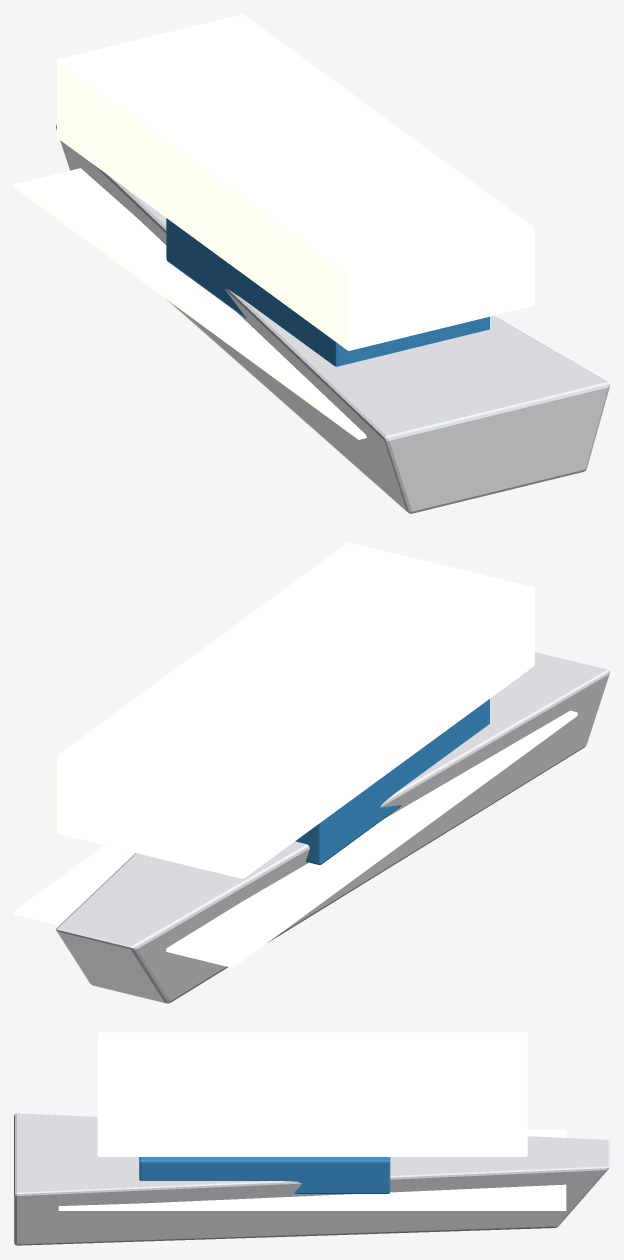
The model's file is traffic_ferry.glb.
3 views of the same model, one above another, from view 1: azimuth 30°, elevation 25°; view 2: azimuth 150°, elevation 25°; view 3: azimuth 270°, elevation 25° (orthographic). The views are drawn at different scales.
Parts seen in each view (by area): view 1: PassengerDeck, Ferry, Ferry_NeonTrim, Ferry_Deck; view 2: PassengerDeck, Ferry, Ferry_NeonTrim, Ferry_Deck; view 3: PassengerDeck, Ferry, Ferry_NeonTrim, Ferry_Deck.
Boxes of the visible parts, x1,y1,x2,y2 form: PassengerDeck: (57, 14, 534, 350); Ferry: (56, 124, 609, 513); Ferry_NeonTrim: (14, 168, 366, 439); Ferry_Deck: (166, 218, 489, 366); PassengerDeck: (57, 542, 534, 878); Ferry: (56, 652, 609, 1003); Ferry_NeonTrim: (14, 710, 577, 967); Ferry_Deck: (295, 699, 489, 864); PassengerDeck: (97, 1032, 527, 1156); Ferry: (14, 1113, 609, 1245); Ferry_NeonTrim: (58, 1129, 566, 1210); Ferry_Deck: (139, 1157, 390, 1193).
Size of the model in its own units: 5.14 by 4.42 by 15.97.
